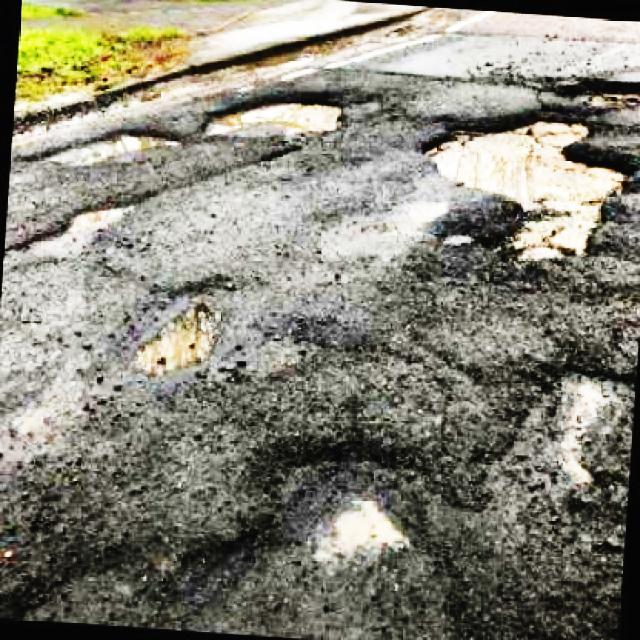pothole: (421, 347, 640, 640), (185, 431, 472, 640), (420, 106, 638, 268), (0, 534, 203, 640), (124, 272, 244, 394), (197, 88, 357, 150), (14, 195, 141, 268), (23, 120, 191, 175), (552, 72, 640, 106)
